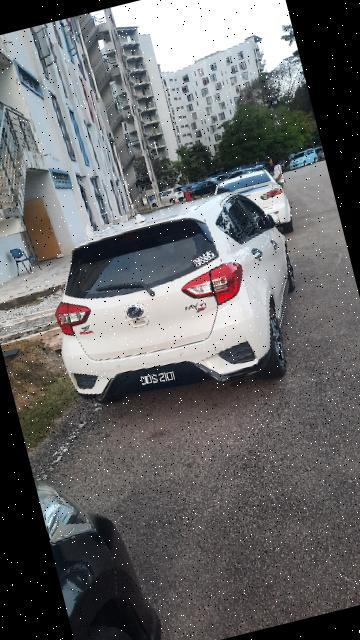License_Plate: (119, 357, 203, 401)
car: (32, 180, 324, 431)
